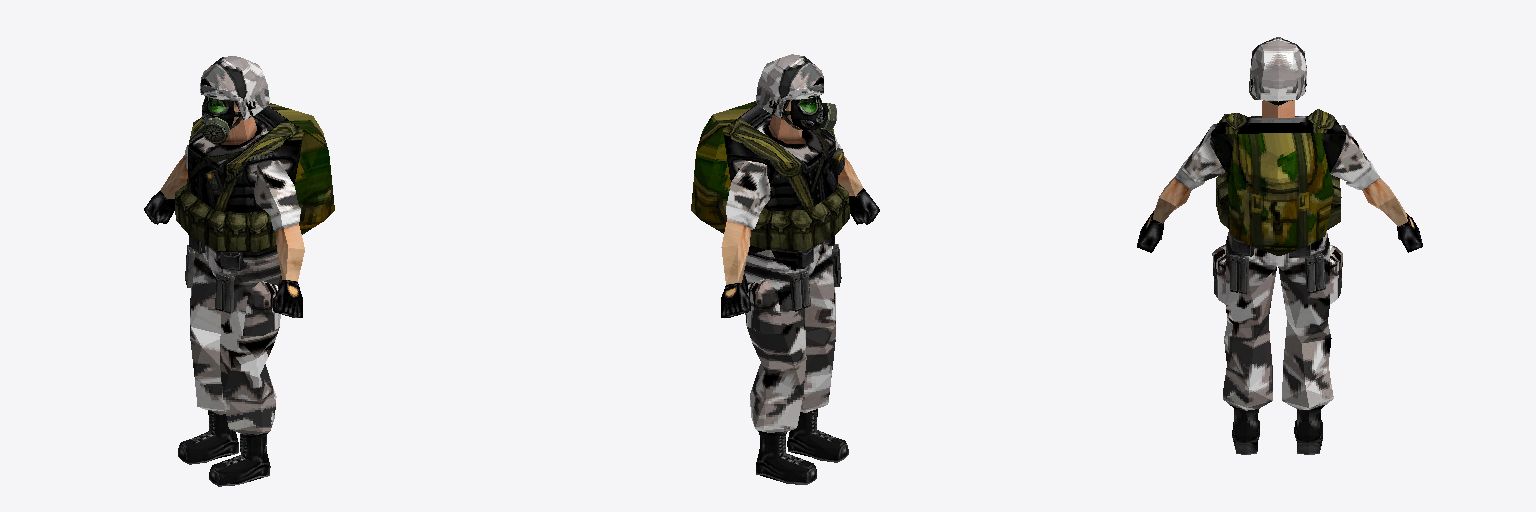
The picture shows the model from 3 angles: view 1: azimuth 30°, elevation 25°; view 2: azimuth 150°, elevation 25°; view 3: azimuth 270°, elevation 25°; orthographic projection.
Visible parts, largest first — view 1: Object_0_pantfront.bmp, Object_0_bodyarmorfnt.bmp, Object_0_accessories.bmp, Object_0_boots.bmp, Object_0_pack.bmp, Object_1_helmet.bmp, Object_1_armchlotes.bmp, Object_1_newarm.bmp, Object_1_hands1.bmp, Object_0_pantfront2.bmp, Object_1_face_masknomask.bmp; view 2: Object_0_pantfront.bmp, Object_0_bodyarmorfnt.bmp, Object_0_accessories.bmp, Object_0_boots.bmp, Object_0_pack.bmp, Object_1_helmet.bmp, Object_1_armchlotes.bmp, Object_1_newarm.bmp, Object_1_hands1.bmp, Object_0_pantfront2.bmp, Object_1_face.bmp, Object_1_face_masknomask.bmp; view 3: Object_0_pantfront.bmp, Object_0_pack.bmp, Object_0_bodyarmorfnt.bmp, Object_1_helmet.bmp, Object_0_accessories.bmp, Object_1_armchlotes.bmp, Object_0_boots.bmp, Object_1_newarm.bmp, Object_0_pantfront2.bmp, Object_1_hands1.bmp.
Part boxes in pixels (x1,y1,x2,y2): Object_0_pantfront.bmp: (190, 245, 281, 437); Object_0_bodyarmorfnt.bmp: (187, 106, 303, 211); Object_0_accessories.bmp: (175, 184, 276, 313); Object_0_boots.bmp: (178, 411, 270, 486); Object_0_pack.bmp: (268, 103, 334, 234); Object_1_helmet.bmp: (200, 56, 269, 119); Object_1_armchlotes.bmp: (185, 145, 300, 231); Object_1_newarm.bmp: (160, 155, 304, 281); Object_1_hands1.bmp: (144, 191, 302, 317); Object_0_pantfront2.bmp: (243, 281, 279, 335); Object_1_face_masknomask.bmp: (221, 101, 256, 144); Object_0_pantfront.bmp: (742, 239, 835, 435); Object_0_bodyarmorfnt.bmp: (723, 104, 838, 209); Object_0_accessories.bmp: (742, 183, 849, 311); Object_0_boots.bmp: (756, 409, 848, 484); Object_0_pack.bmp: (691, 101, 756, 233); Object_1_helmet.bmp: (756, 54, 823, 117); Object_1_armchlotes.bmp: (726, 134, 841, 229); Object_1_newarm.bmp: (721, 156, 862, 284); Object_1_hands1.bmp: (721, 188, 879, 317); Object_0_pantfront2.bmp: (746, 279, 783, 334); Object_1_face.bmp: (790, 95, 826, 130); Object_1_face_masknomask.bmp: (768, 100, 805, 143); Object_0_pantfront.bmp: (1223, 230, 1333, 410); Object_0_pack.bmp: (1228, 133, 1333, 255); Object_0_bodyarmorfnt.bmp: (1210, 109, 1345, 176); Object_1_helmet.bmp: (1250, 37, 1306, 100); Object_0_accessories.bmp: (1216, 172, 1341, 294); Object_1_armchlotes.bmp: (1175, 123, 1379, 189); Object_0_boots.bmp: (1232, 409, 1322, 454); Object_1_newarm.bmp: (1153, 177, 1407, 226); Object_0_pantfront2.bmp: (1212, 244, 1342, 304); Object_1_hands1.bmp: (1137, 211, 1422, 252).
Size of the model in its own units: 0.8562 by 2.5 by 1.61.
23 materials, 23 textured.